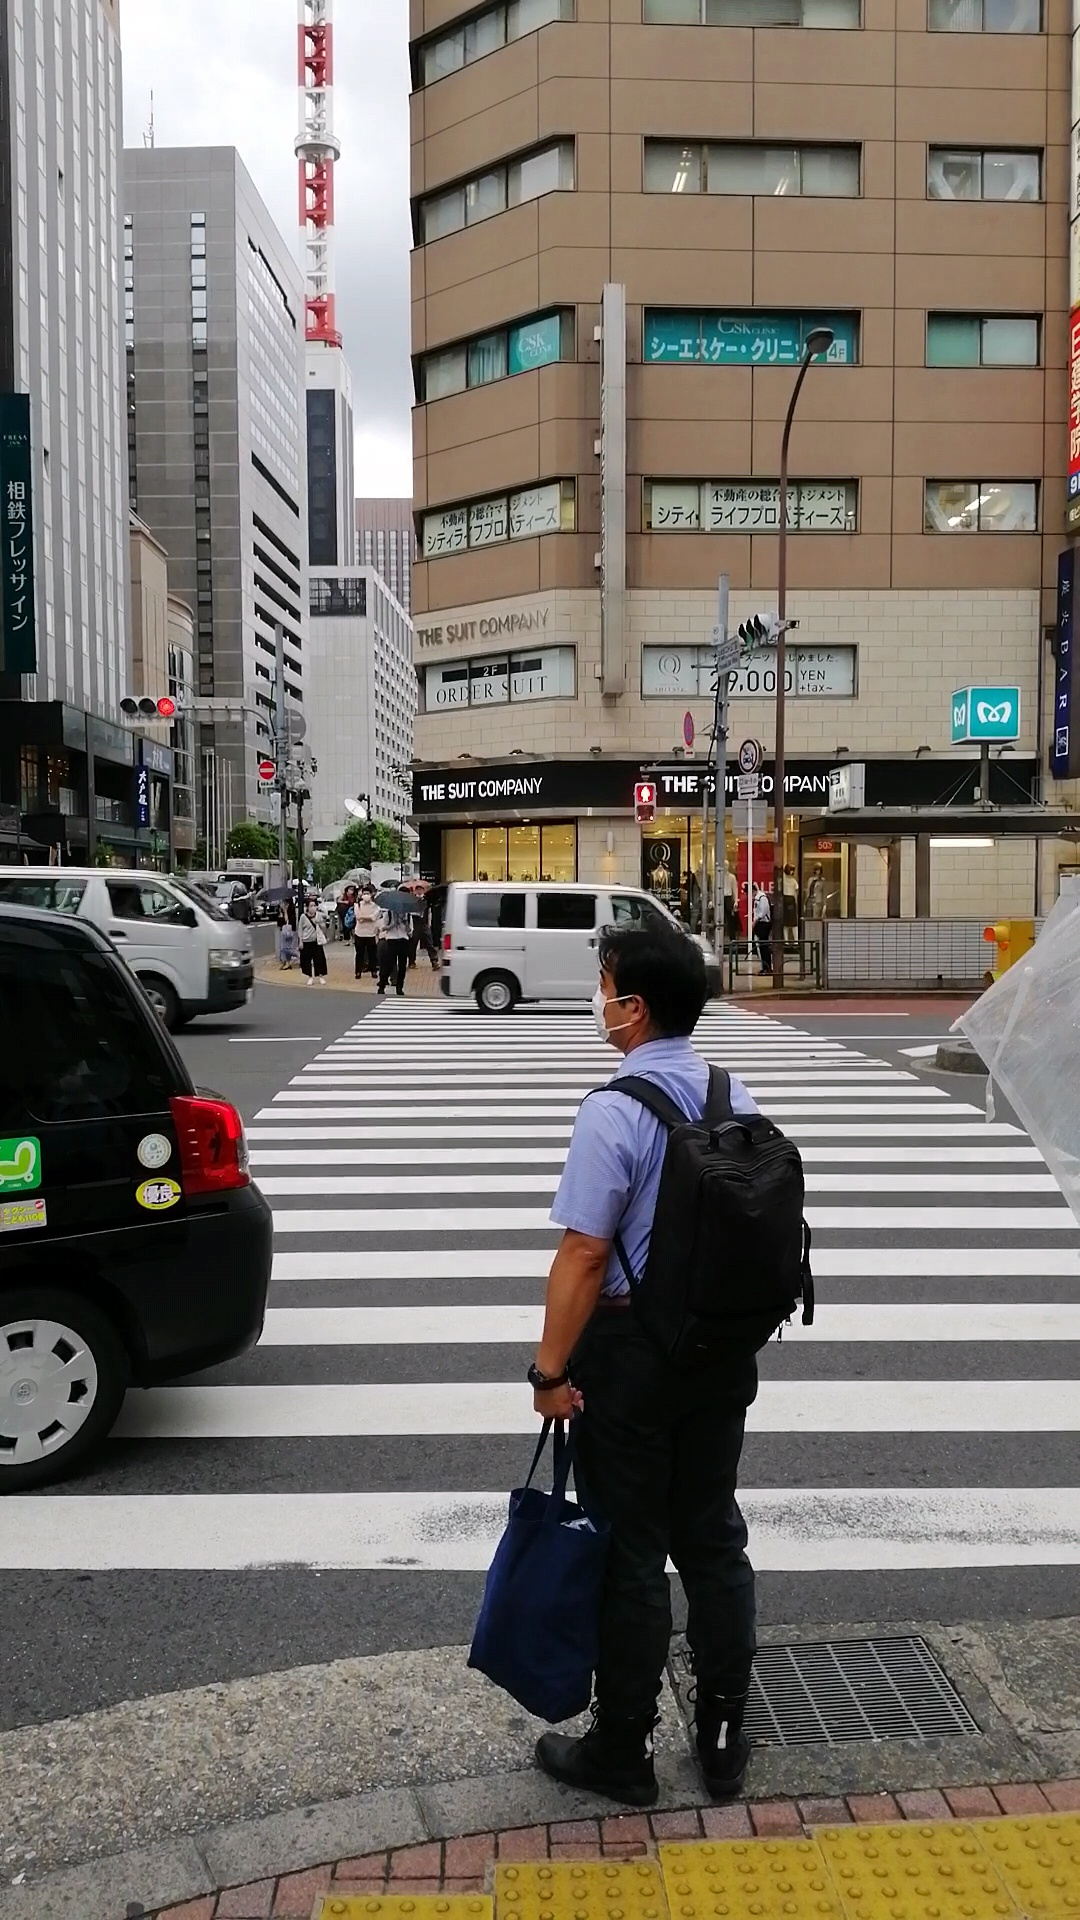red: (632, 782, 655, 825)
